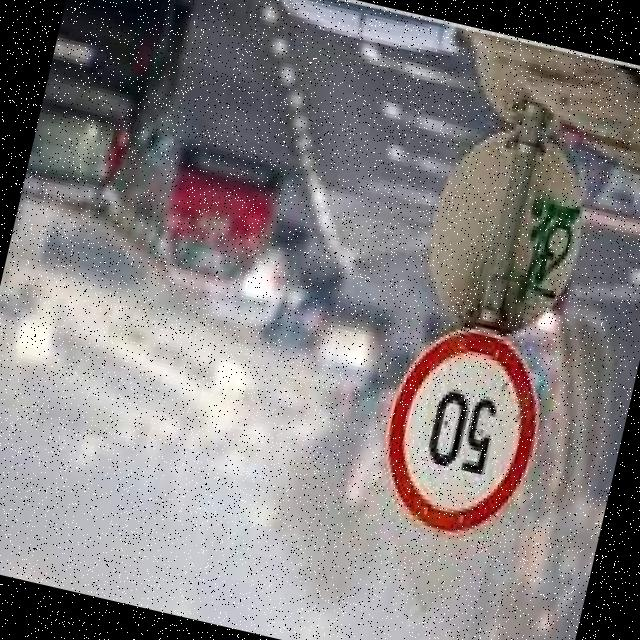speed_limit_50: (350, 306, 571, 561)
